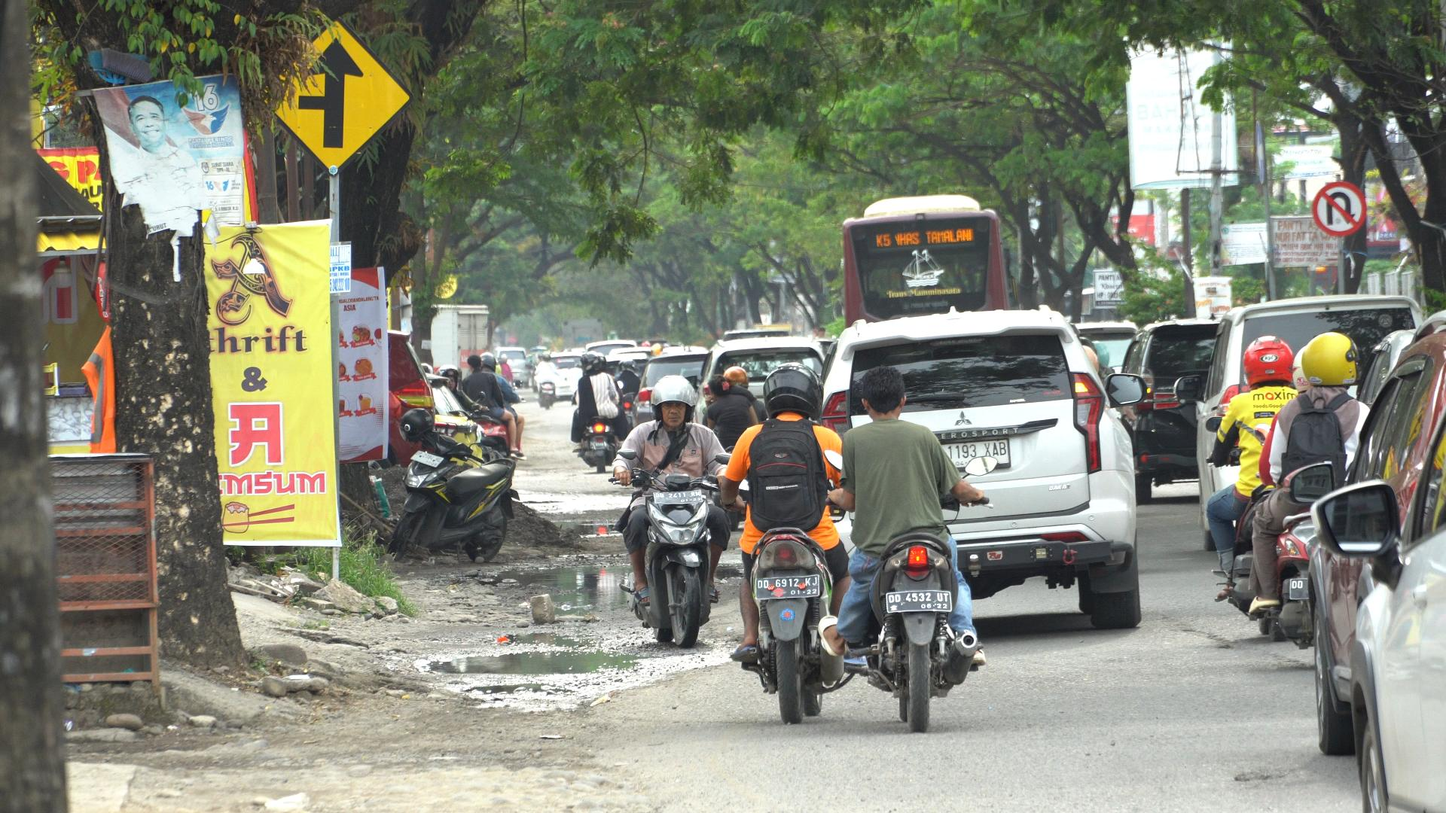number-plate: (650, 486, 703, 506)
